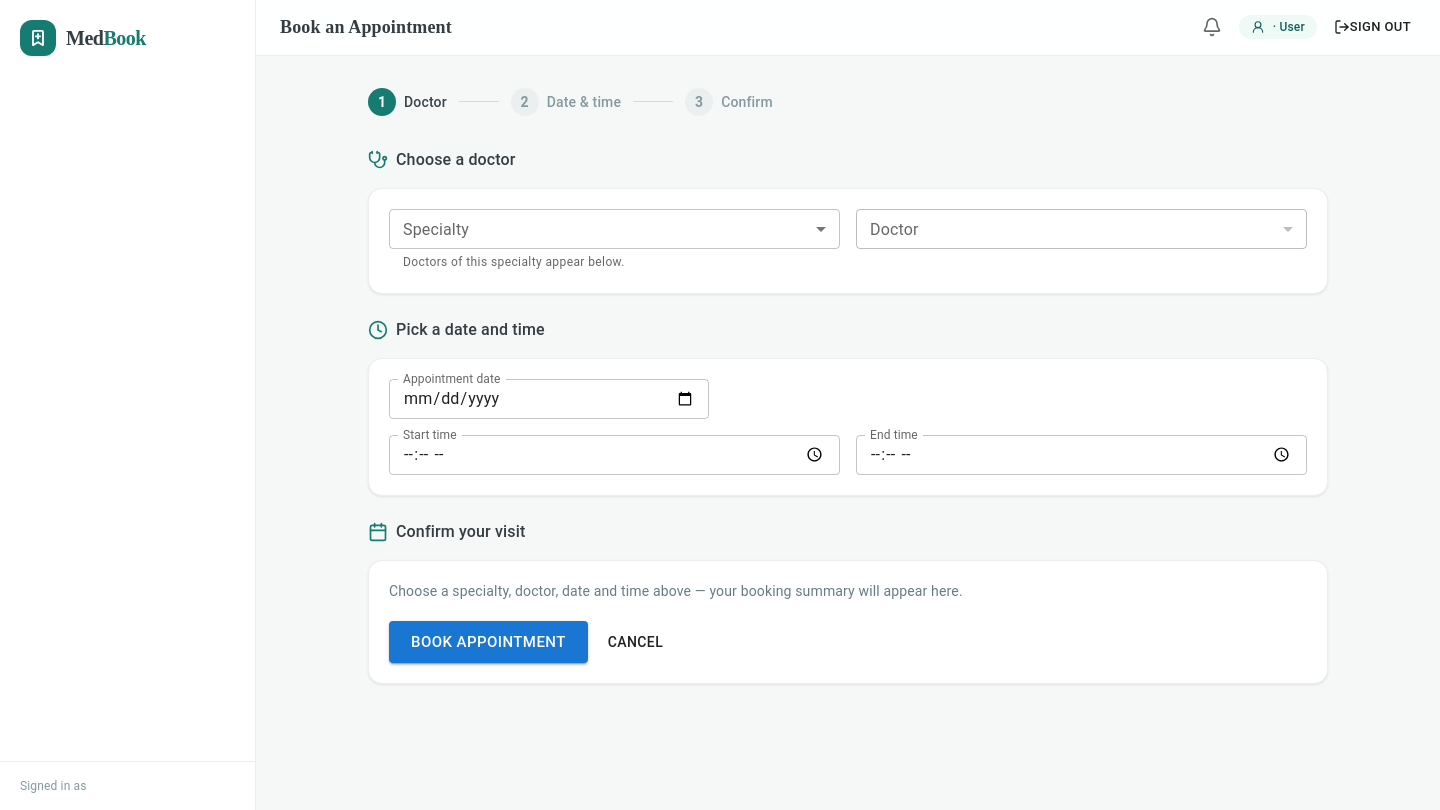
Test: BookAppointmentPage (secure patient self-booking) › renders specialty and doctor options from the discovery APIs
This screenshot has width=1440, height=810.
Press the mouse on the 1st dropdown named "Specialty": coordinates (614, 229) [389,209,840,249]
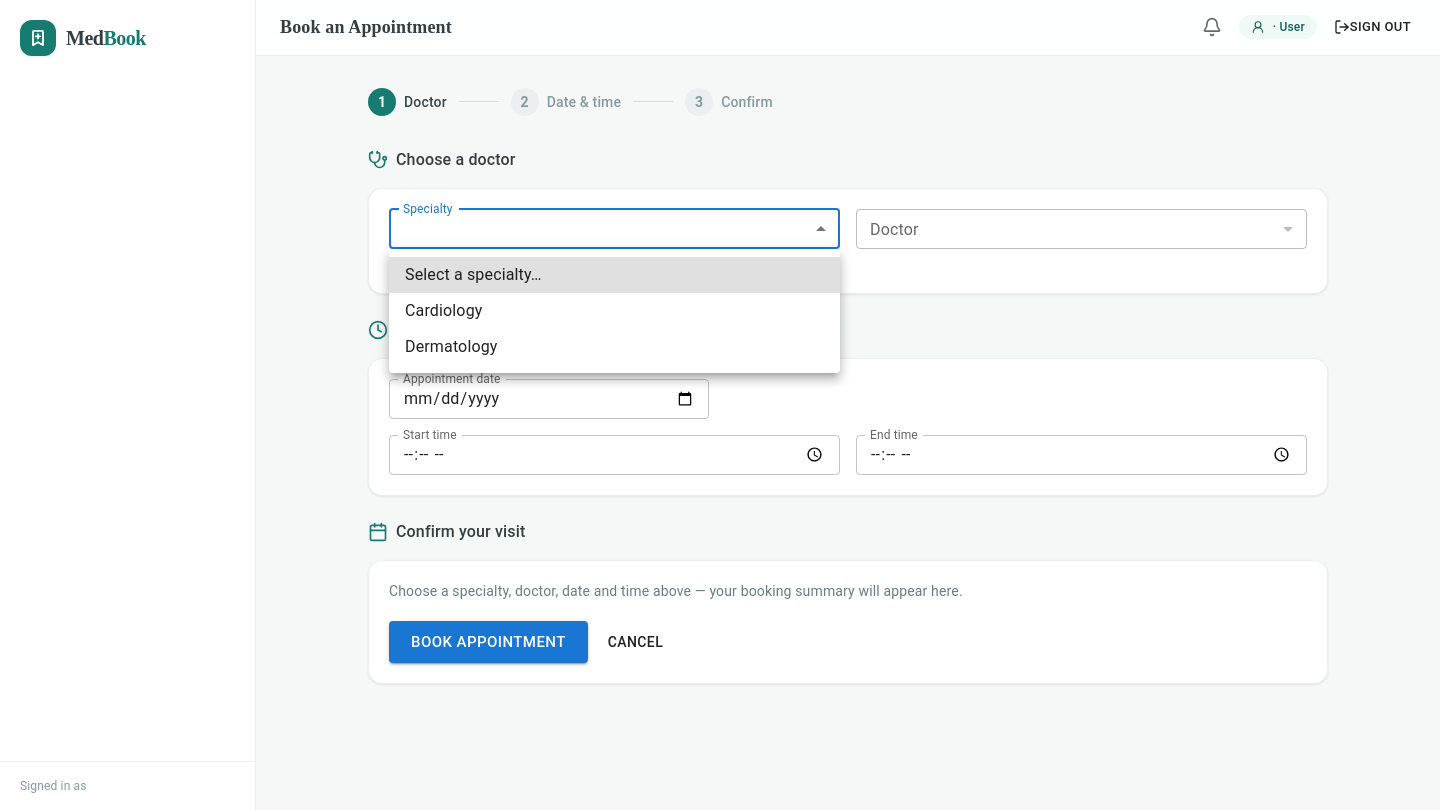
Click the option "Cardiology": coordinates (444, 310) [405,301,482,320]
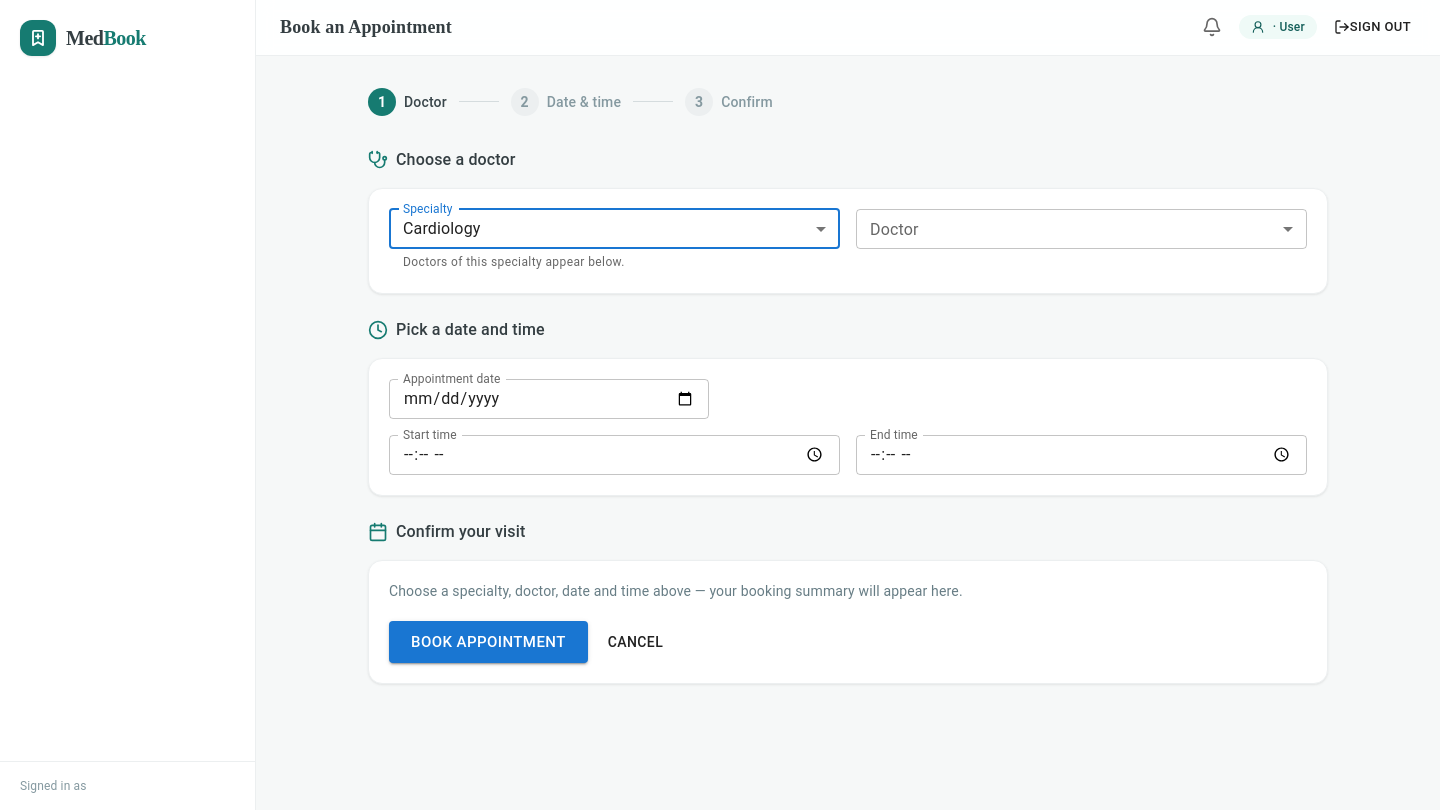
Now the dropdown named "Doctor" does not have attribute aria-disabled="true"
Press the mouse on the dropdown named "Doctor": coordinates (1082, 229) [856,209,1307,249]
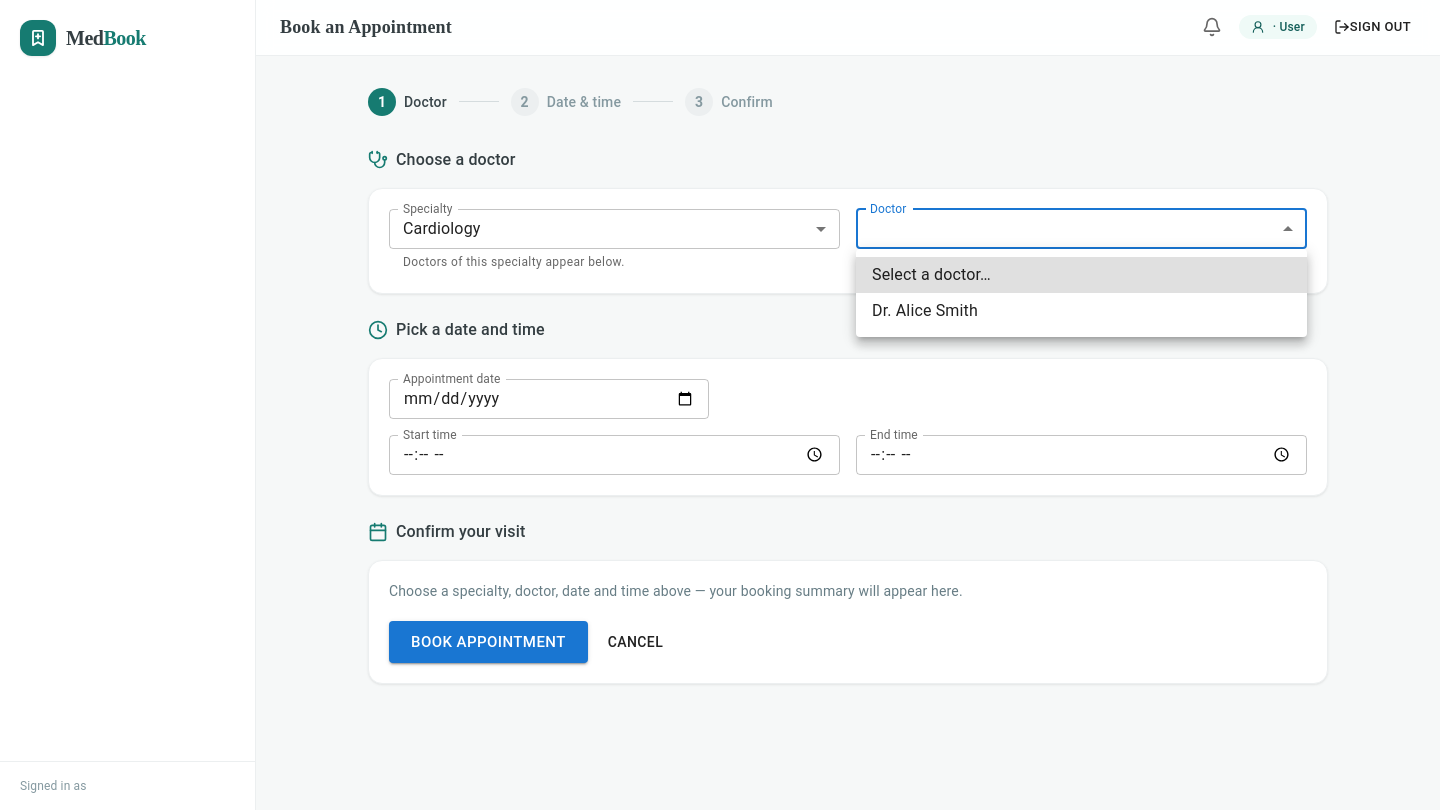
Now the option "Dr. Alice Smith" is shown, box [872,301,978,320]
